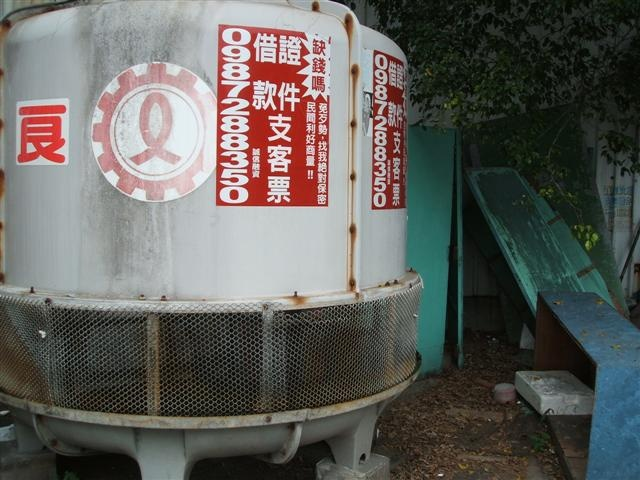box: (532, 290, 639, 478)
styrofoam: (513, 367, 595, 418)
water_tower: (2, 1, 426, 480)
